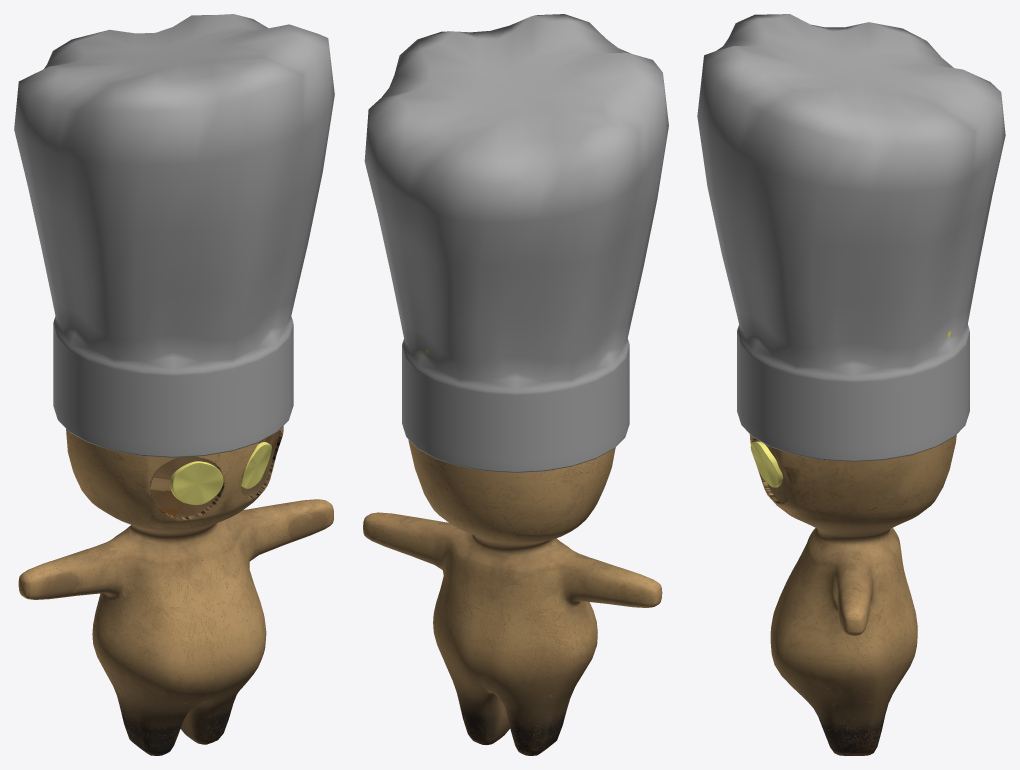
The model's file is angel3.fbx.
The picture shows the model from 3 angles, left to right: view 1: azimuth 30°, elevation 25°; view 2: azimuth 150°, elevation 25°; view 3: azimuth 270°, elevation 25°; orthographic projection. The views are drawn at different scales.
Visible parts, largest first — view 1: angels_chef_hat_smoothed, polySurface1216, eye1, polySurface1217, eye2; view 2: angels_chef_hat_smoothed, polySurface1216; view 3: angels_chef_hat_smoothed, polySurface1216, eye2.
Boxes of the visible parts, <box> form: angels_chef_hat_smoothed: <box>14,14,334,457</box>; polySurface1216: <box>18,426,333,755</box>; eye1: <box>170,461,223,504</box>; polySurface1217: <box>150,456,217,517</box>; eye2: <box>241,442,271,488</box>; angels_chef_hat_smoothed: <box>364,14,668,472</box>; polySurface1216: <box>363,439,662,755</box>; angels_chef_hat_smoothed: <box>697,14,1005,461</box>; polySurface1216: <box>749,434,956,755</box>; eye2: <box>750,441,783,487</box>.
Bounding box in the file's own units: 120 × 264 × 106.
